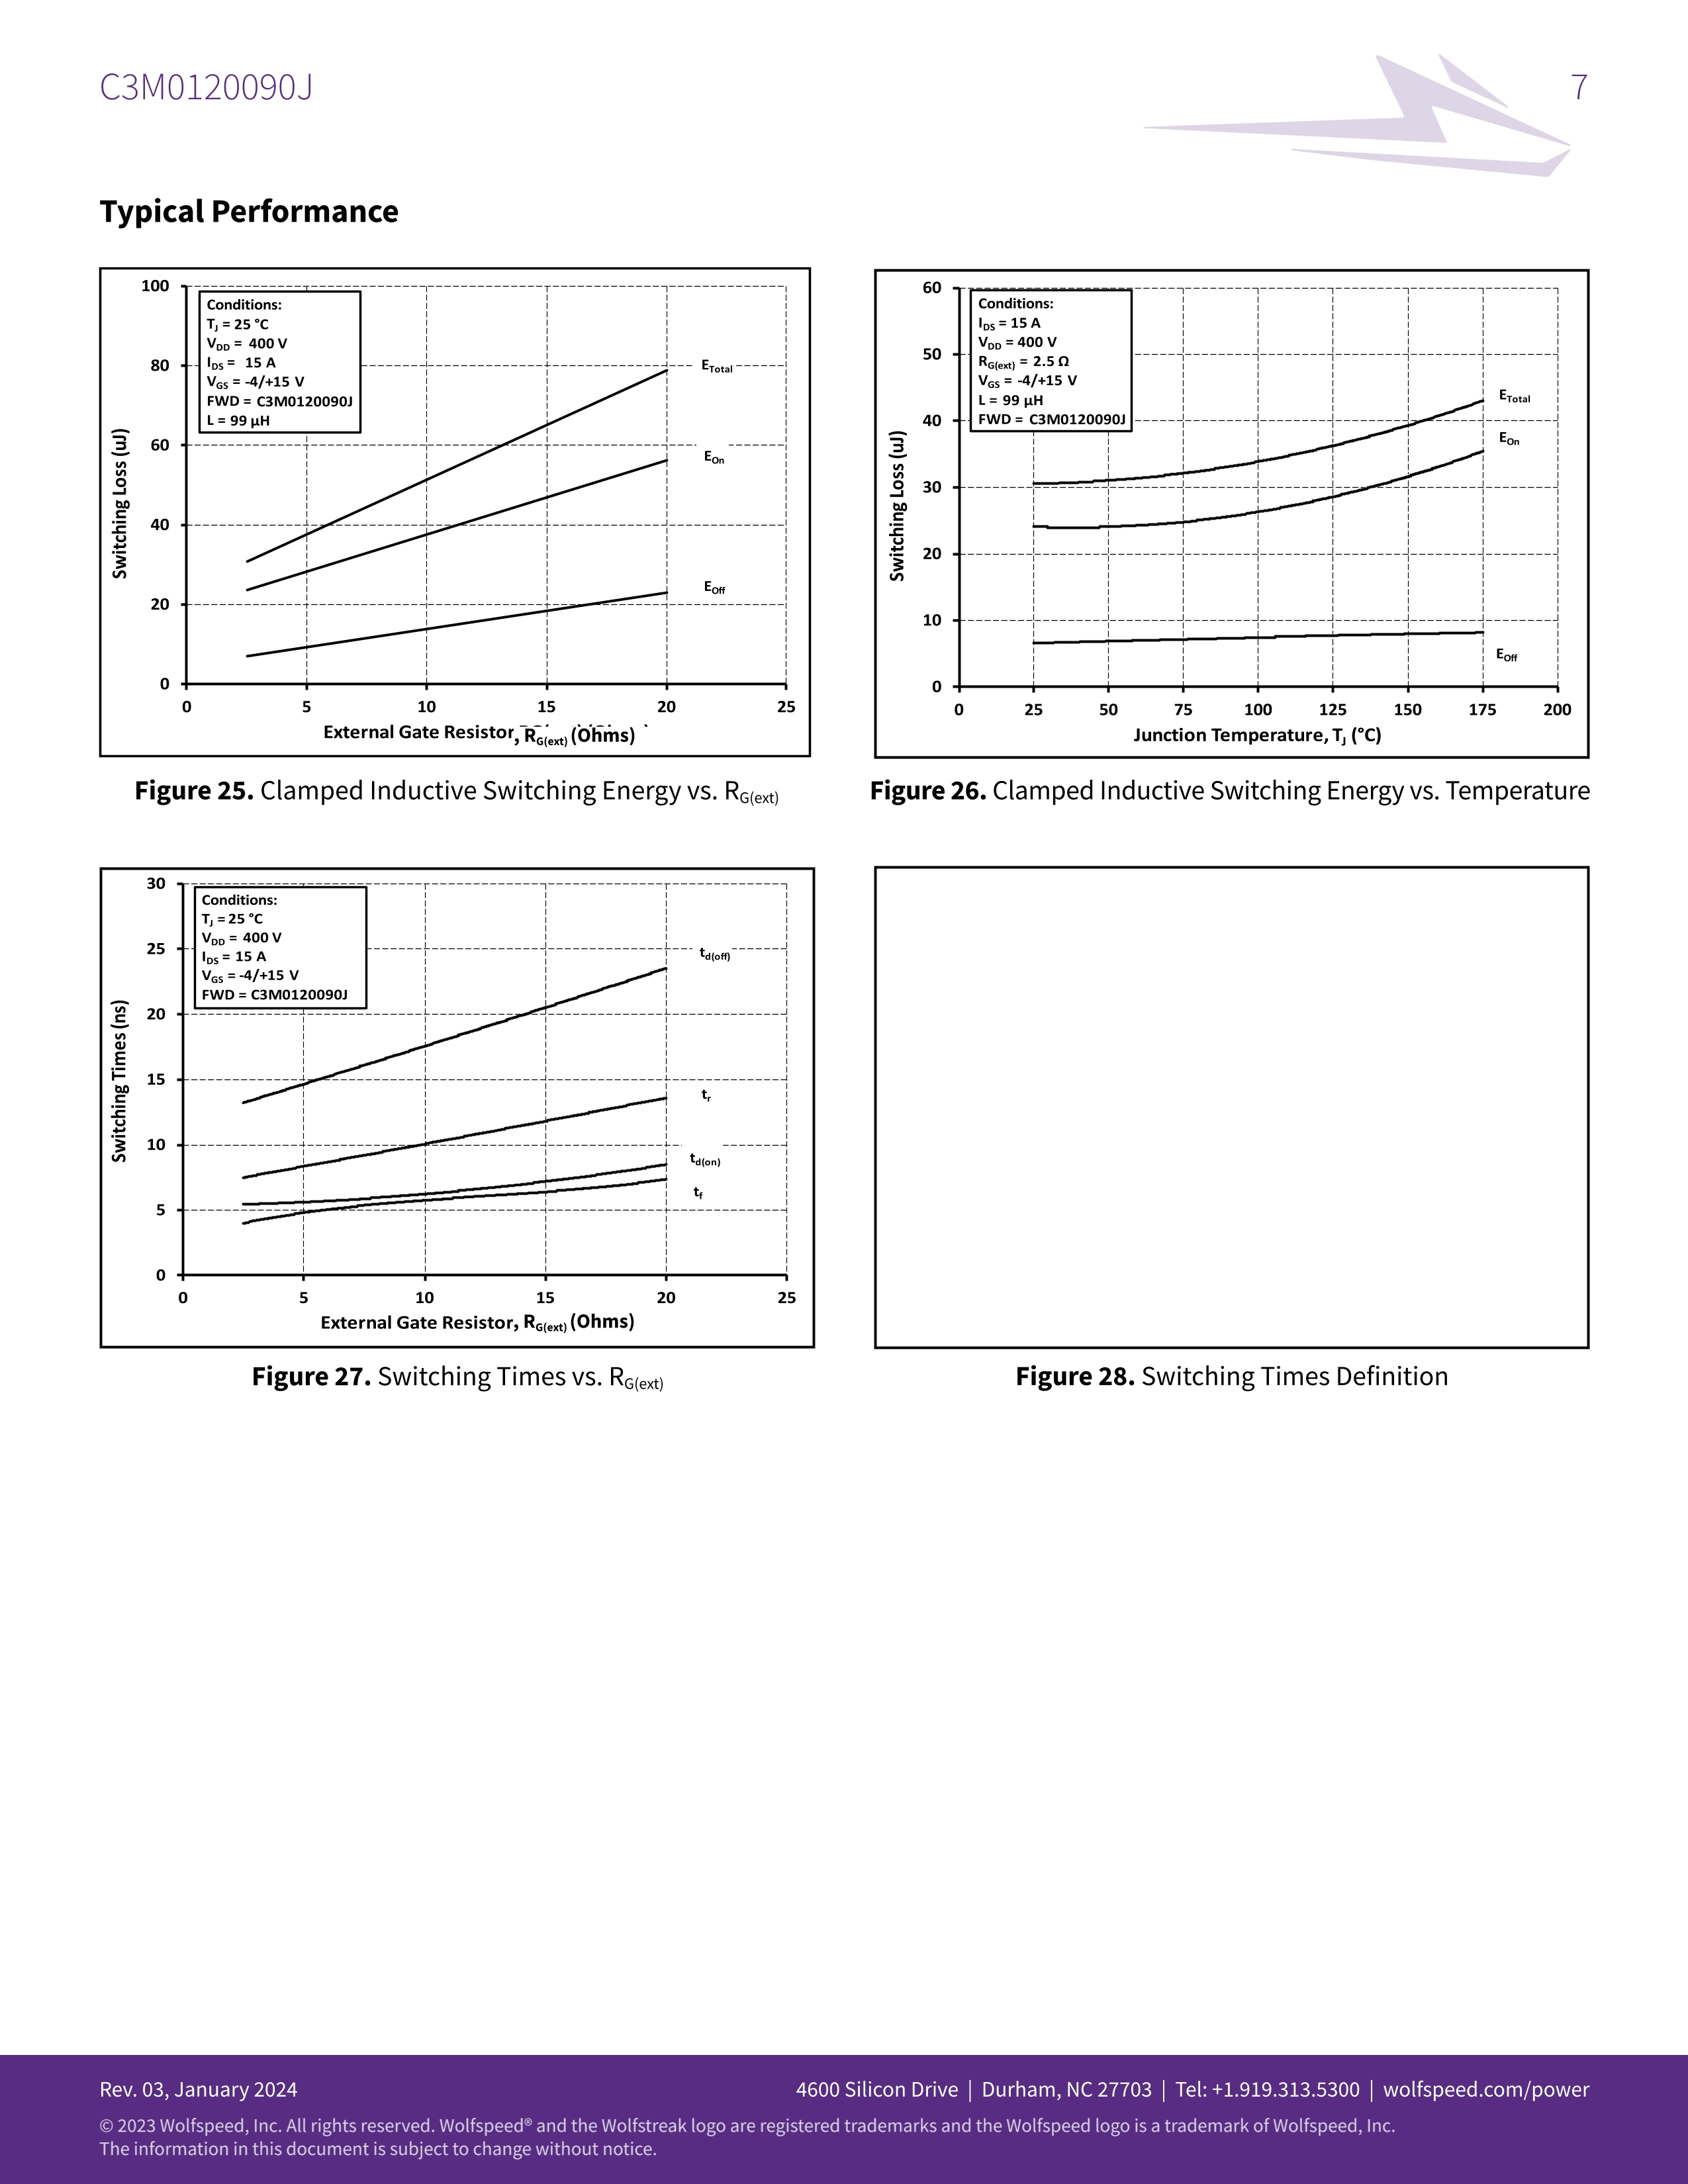diagram: (859, 253, 1645, 877), (85, 854, 861, 1430), (86, 256, 820, 834)
